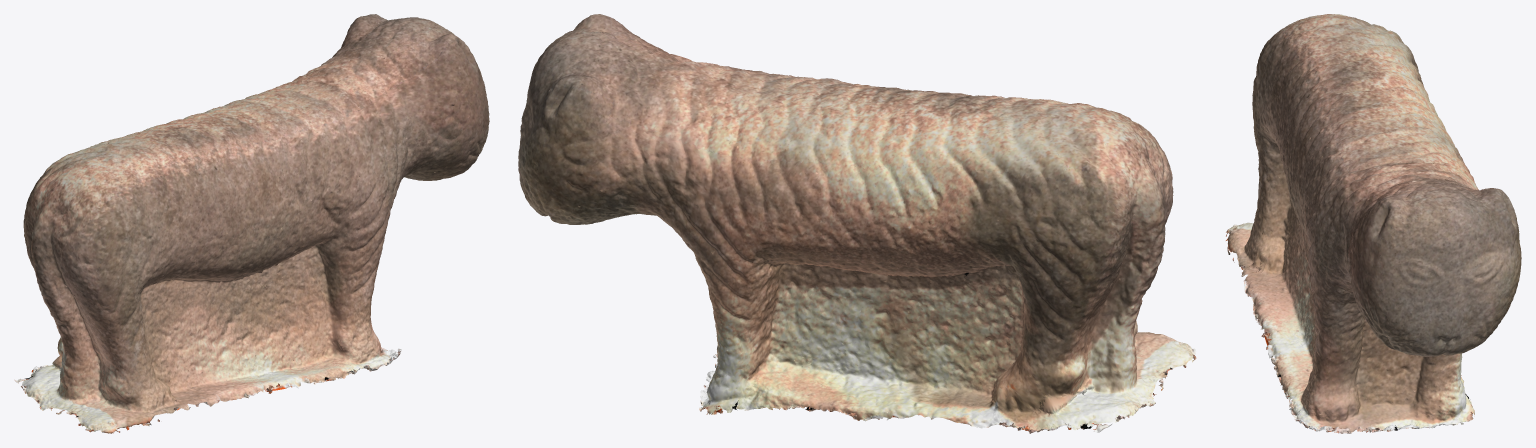
The model's file is stone-lion-female.glb.
3 views of the same model, side by side, from view 1: azimuth 30°, elevation 25°; view 2: azimuth 150°, elevation 25°; view 3: azimuth 270°, elevation 25° (orthographic). The views are drawn at different scales.
Parts seen in each view (by area): view 1: female.003; view 2: female.003; view 3: female.003.
Part boxes in pixels (x1,y1,x2,y2): female.003: (14, 14, 489, 433); female.003: (518, 14, 1196, 433); female.003: (1226, 14, 1521, 433).
Bounding box in the file's own units: 1.72 × 0.9345 × 0.8754.
1 material, 1 textured.
